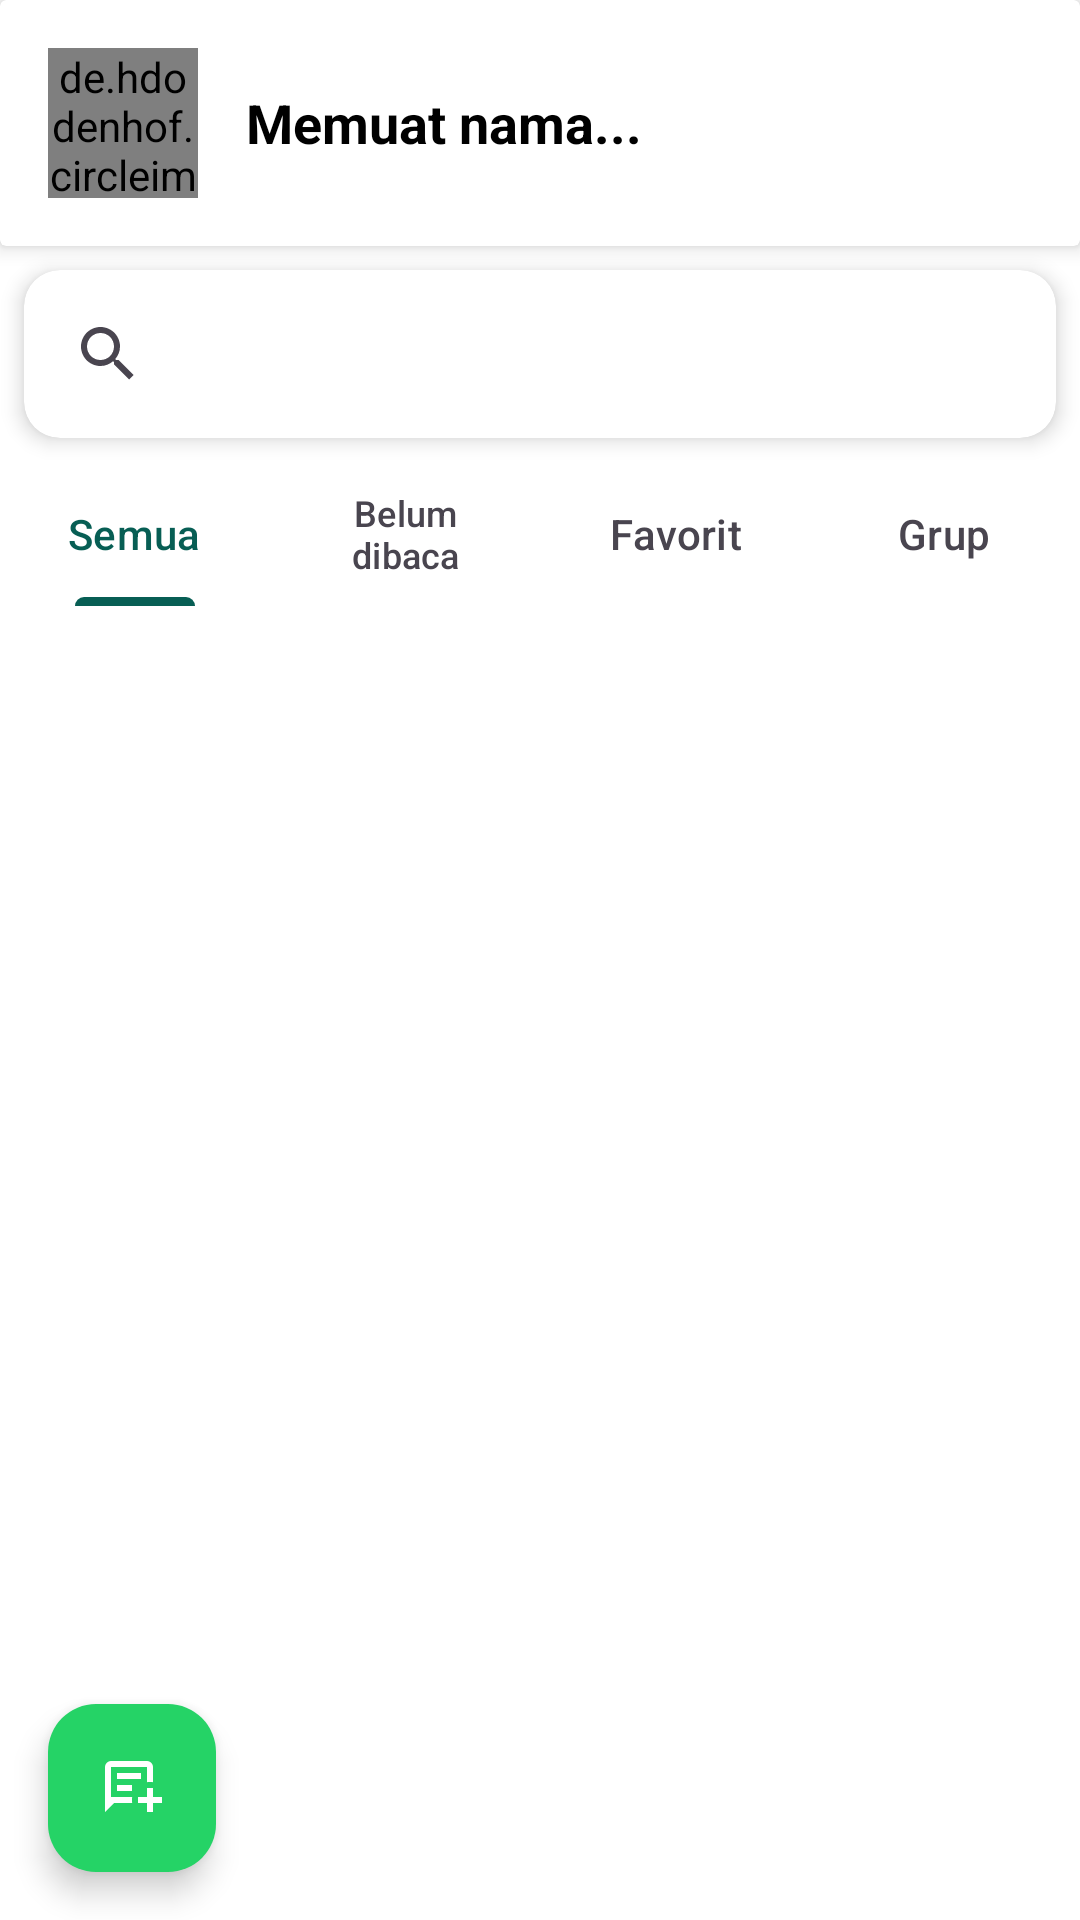

Locate icon controls on the screen. Image size 1080w x 1920h, boxes as (x1, y1, x2, y2).
Mulai Chat Baru: (48, 1704, 216, 1872)
